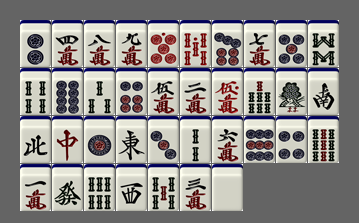0m: (212, 68, 243, 115)
0p: (148, 20, 179, 67)
0s: (180, 20, 211, 67)
1m: (20, 164, 51, 211)
1p: (84, 116, 115, 163)
1s: (276, 68, 307, 115)
1z: (116, 116, 147, 163)
2m: (180, 68, 211, 115)
2p: (20, 20, 51, 67)
2s: (180, 116, 211, 163)
2z: (308, 68, 339, 115)
3m: (180, 164, 211, 211)
3p: (148, 116, 179, 163)
3s: (84, 68, 115, 115)
3z: (116, 164, 147, 211)
4m: (52, 20, 83, 67)
4p: (276, 116, 307, 163)
4s: (20, 68, 51, 115)
4z: (20, 116, 51, 163)
5m: (148, 68, 179, 115)
5p: (276, 20, 307, 67)
5s: (148, 164, 179, 211)
5z: (212, 164, 243, 211)
6m: (212, 116, 243, 163)
6p: (116, 68, 147, 115)
6s: (84, 164, 115, 211)
6z: (52, 164, 83, 211)
7m: (244, 20, 275, 67)
7p: (212, 20, 243, 67)
7s: (244, 68, 275, 115)
7z: (52, 116, 83, 163)
8m: (84, 20, 115, 67)
8p: (52, 68, 83, 115)
8s: (308, 20, 339, 67)
9m: (116, 20, 147, 67)
9p: (244, 116, 275, 163)
9s: (308, 116, 339, 163)
